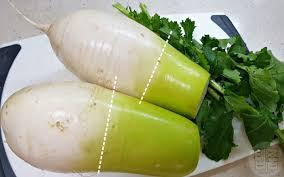radish: (0, 23, 91, 49), (19, 3, 94, 32)
